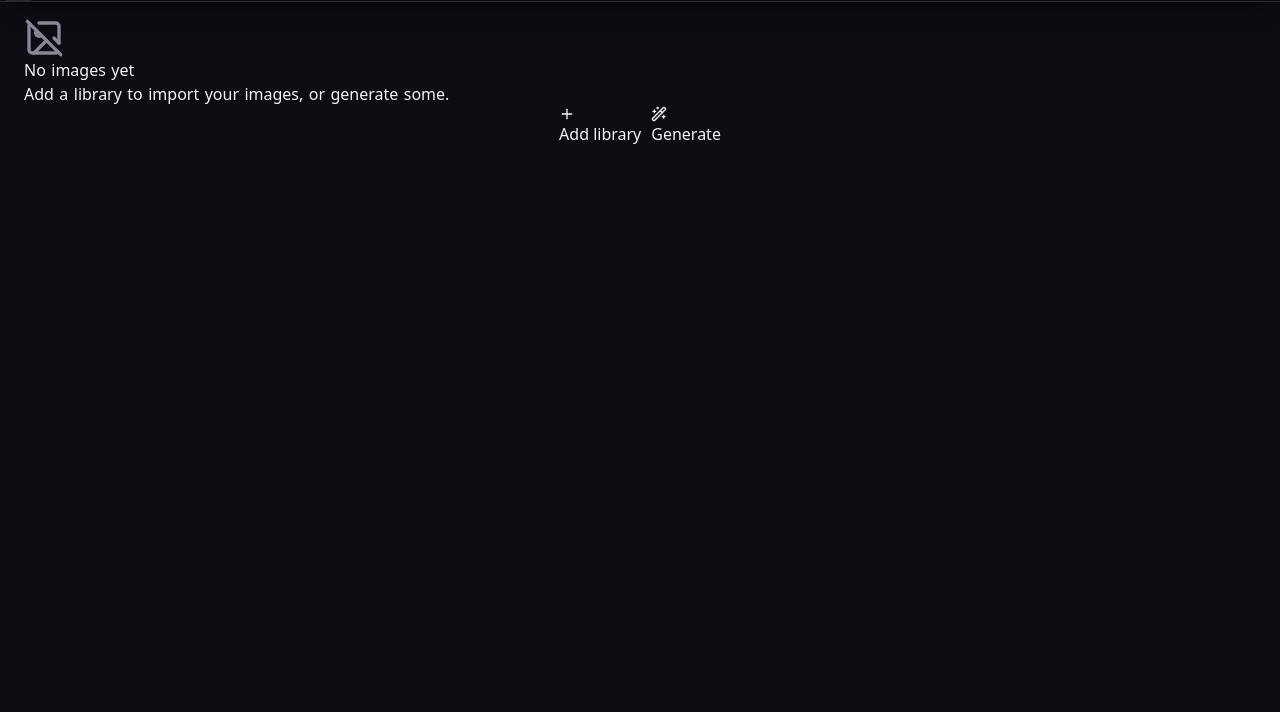
AllImagesPage › offers Add library and Generate when there are no images at all
expect the heading "No images yet" is shown: met, box [24,59,134,81]
Click the button "Add library" at [600, 126], box [559,106,641,146]
(page scrolled)
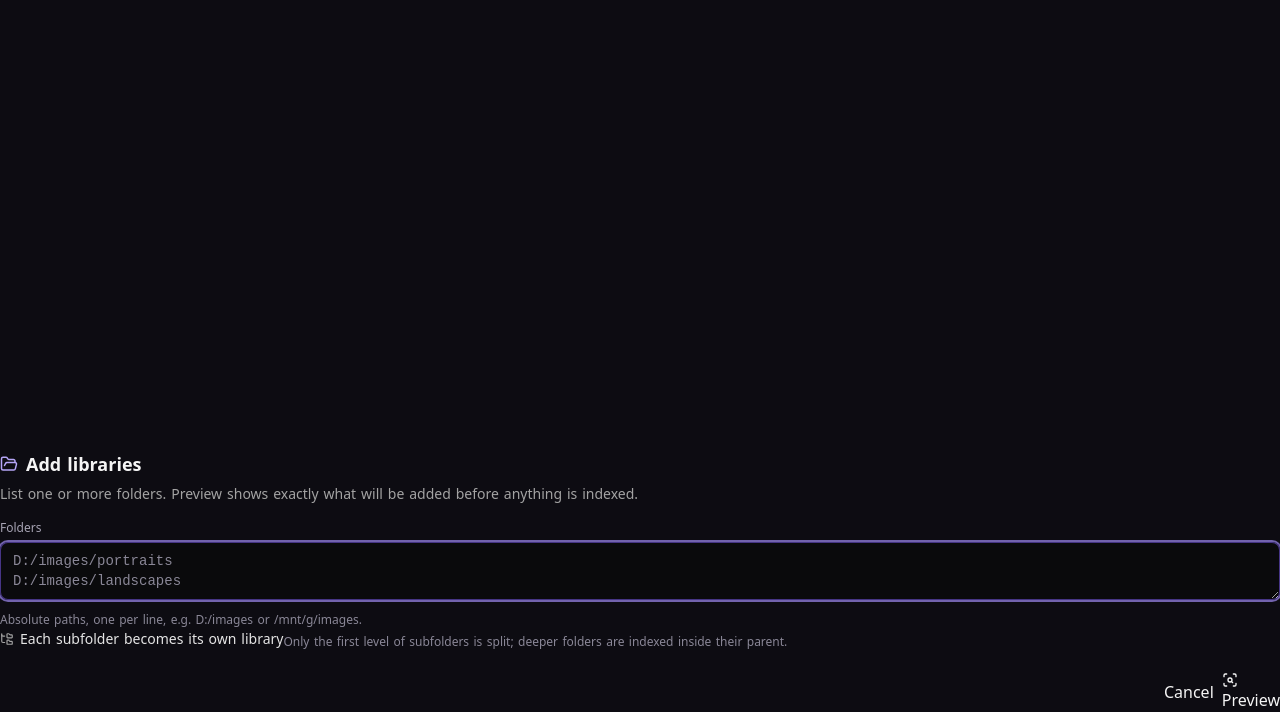
expect the dialog is shown: met, box [0,450,1279,711]
